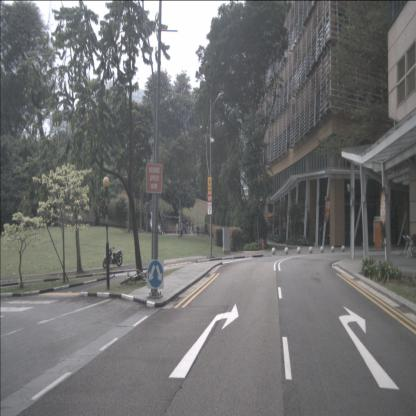vehicle-bicycle: (121, 268, 148, 286)
vehicle-motorcycle: (102, 245, 123, 269)
